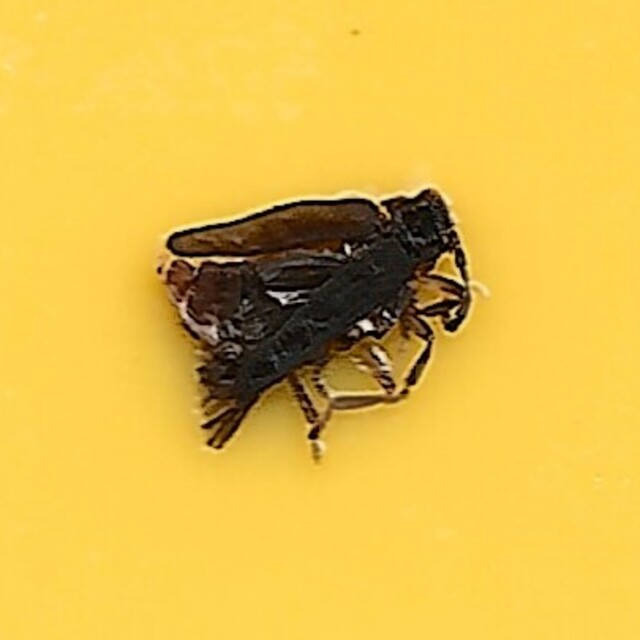Coleoptera: (158, 176, 482, 464)
